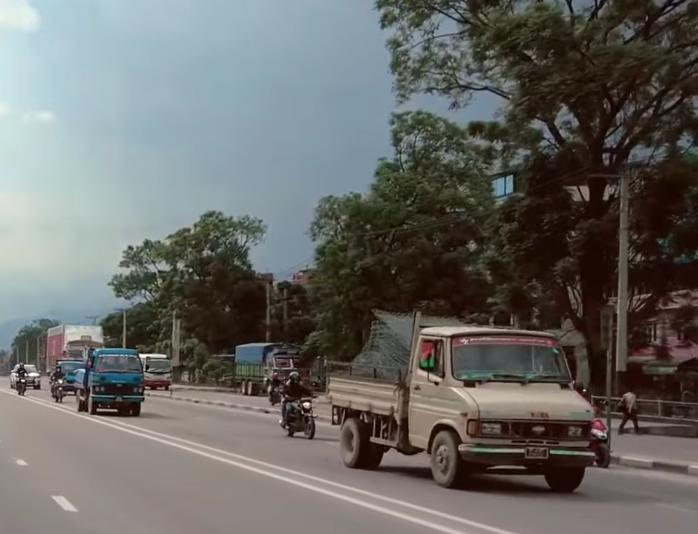bike: (276, 371, 319, 442), (42, 361, 69, 407), (15, 361, 28, 400)
bus: (134, 338, 182, 399)
mini_truck: (333, 308, 609, 502)
transport_vehicle: (64, 344, 157, 423)
truck: (224, 336, 309, 391)
